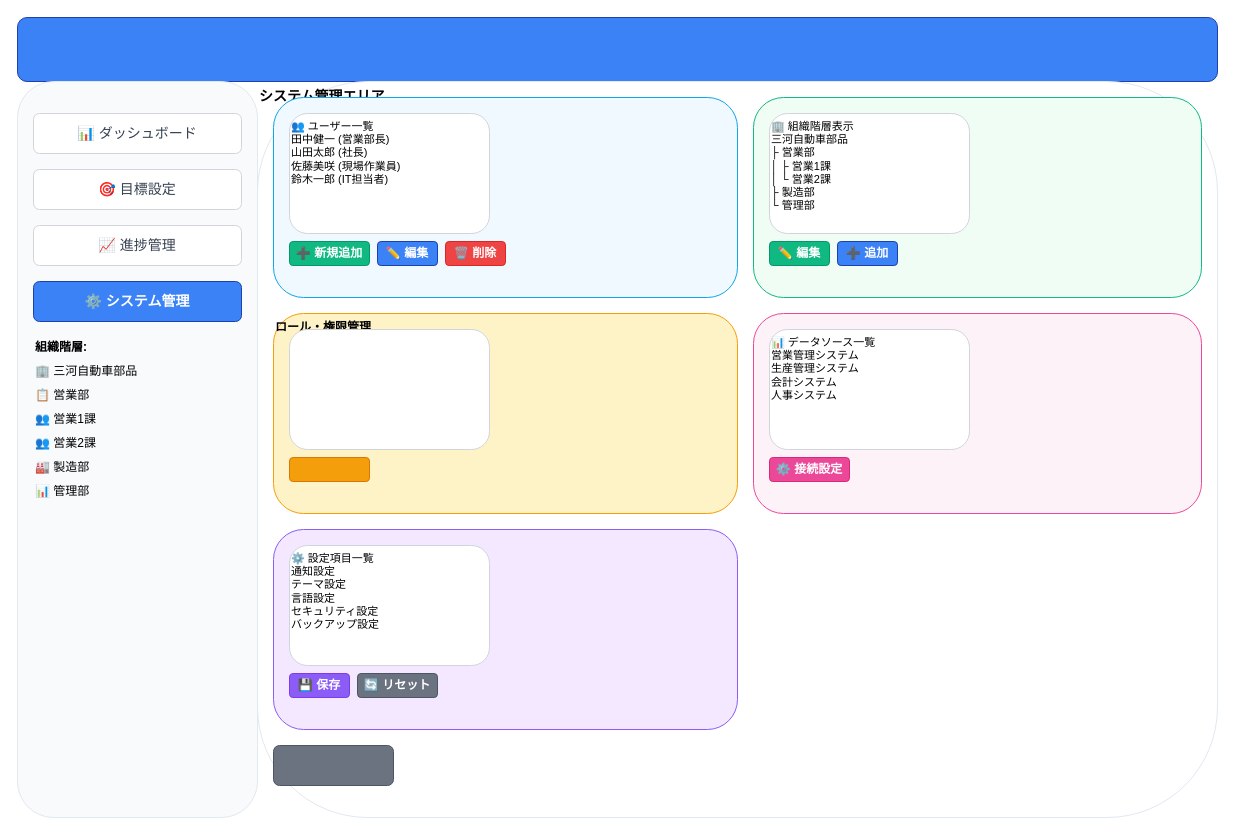
Image size: 1235x835. Some labels were removed from this diagram. Each missing label, with the box of its shape:
⬅️ 戻る: (272, 744, 394, 786)
システム管理: (16, 16, 1218, 82)
システム設定: (272, 528, 738, 730)
データソース管理: (752, 312, 1202, 514)
メニュー・組織階層: (16, 80, 258, 818)
ユーザー管理: (272, 96, 738, 298)
組織体制管理: (752, 96, 1202, 298)
👤 ロール一覧 管理者: 全権限 営業部長: 営業データ管理 現場作業員: 進捗入力 IT担当者: システム設定: (288, 328, 490, 450)
🔐 権限設定: (288, 456, 370, 482)
